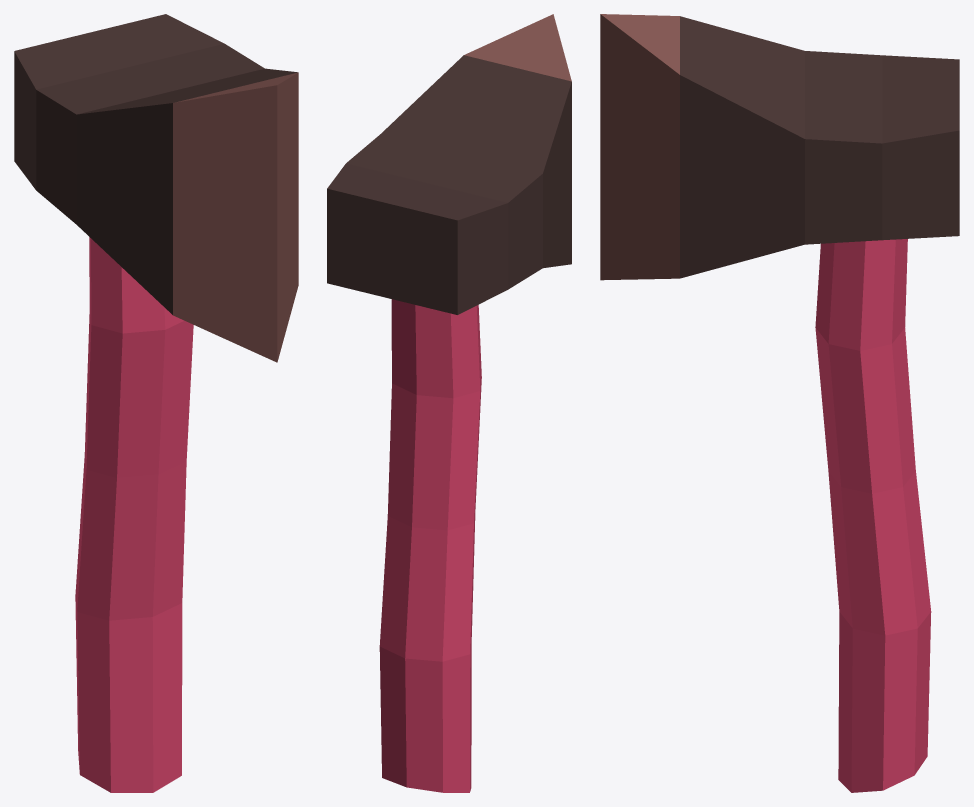
File: axeInstant.fbx
3 renders of one model, left to right at view 1: azimuth 30°, elevation 25°; view 2: azimuth 150°, elevation 25°; view 3: azimuth 270°, elevation 25°, orthographic. The views are drawn at different scales.
Parts seen in each view (by area): view 1: AxeInstant; view 2: AxeInstant; view 3: AxeInstant.
Part boxes in pixels (x1,y1,x2,y2): AxeInstant: (14,14,298,792); AxeInstant: (327,14,571,792); AxeInstant: (600,14,959,792).
Size of the model in its own units: 233 by 941 by 400.
